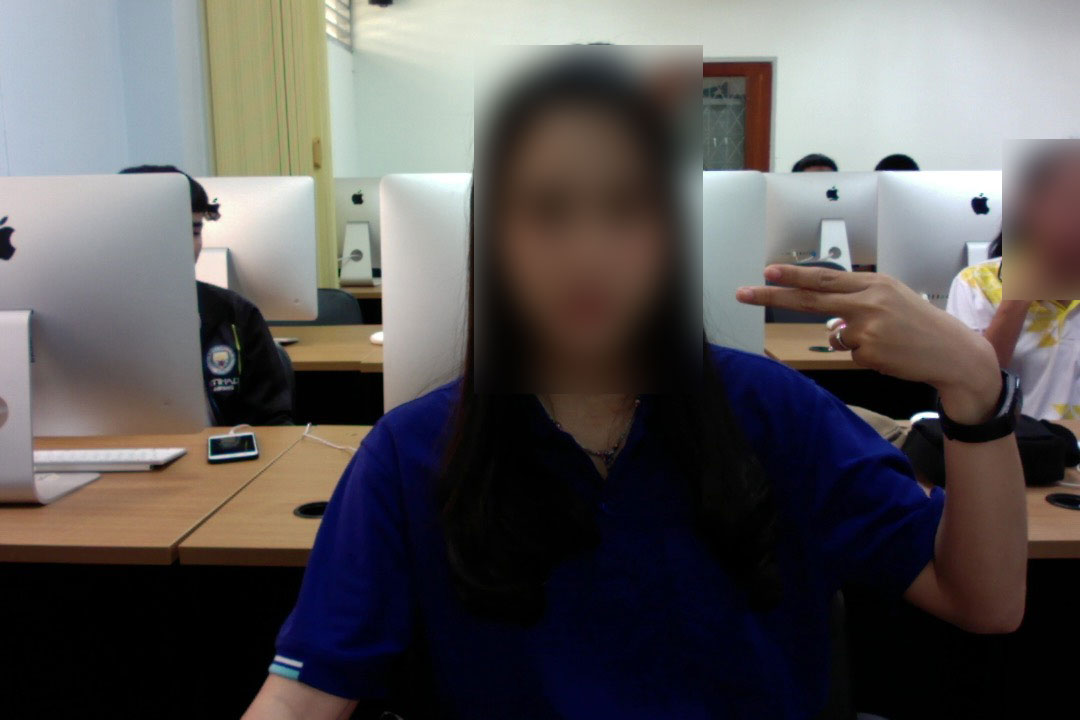hor: (733, 258, 1003, 390)
